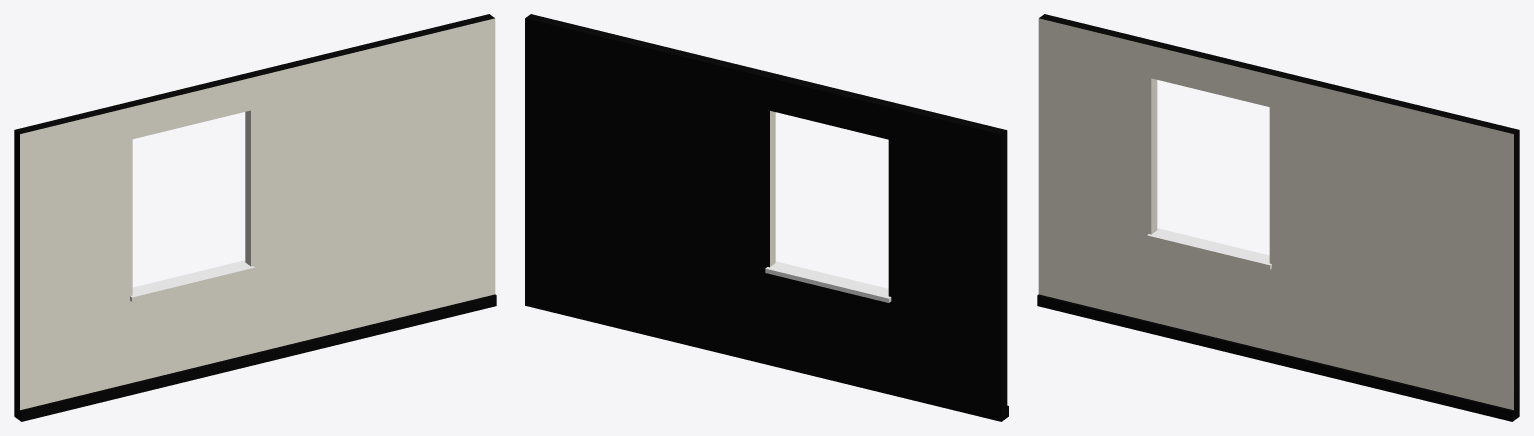
File: Wall 3.FBX
3 renders of one model, left to right at view 1: azimuth 30°, elevation 25°; view 2: azimuth 150°, elevation 25°; view 3: azimuth 330°, elevation 25°, orthographic.
Visible parts, largest first — view 1: Wall 3; view 2: Wall 3; view 3: Wall 3.
Part boxes in pixels (left/top/right/bottom): Wall 3: left=14, top=14, right=496, bottom=421; Wall 3: left=525, top=14, right=1008, bottom=421; Wall 3: left=1037, top=14, right=1519, bottom=421.
Bounding box in the file's own units: 418 × 241 × 15.28.
Materials: 2 (1 with a texture image).
